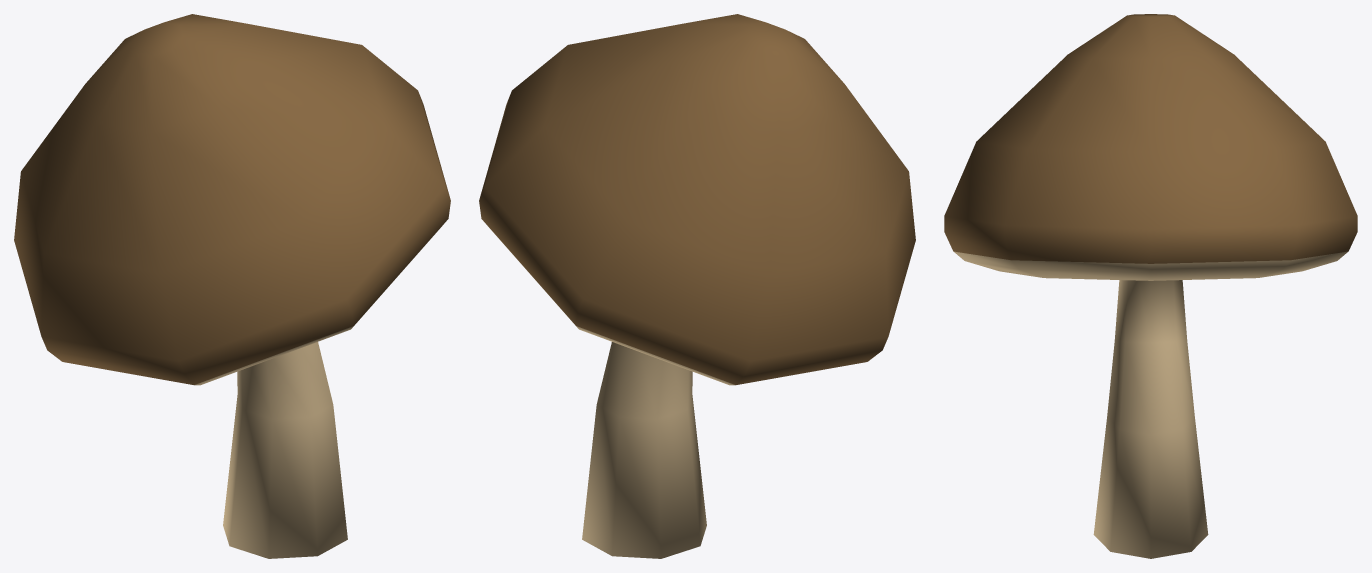
The model's file is Mushroombrown.fbx.
3 views of the same model, side by side, from view 1: azimuth 30°, elevation 25°; view 2: azimuth 150°, elevation 25°; view 3: azimuth 270°, elevation 25° (orthographic). The views are drawn at different scales.
Visible parts, largest first — view 1: mushroom-brown; view 2: mushroom-brown; view 3: mushroom-brown.
Part boxes in pixels (x1=…): mushroom-brown: x1=14, y1=14, x2=450, y2=558; mushroom-brown: x1=479, y1=14, x2=915, y2=558; mushroom-brown: x1=944, y1=14, x2=1357, y2=558.
Size of the model in its own units: 37.64 by 50.18 by 39.84.
